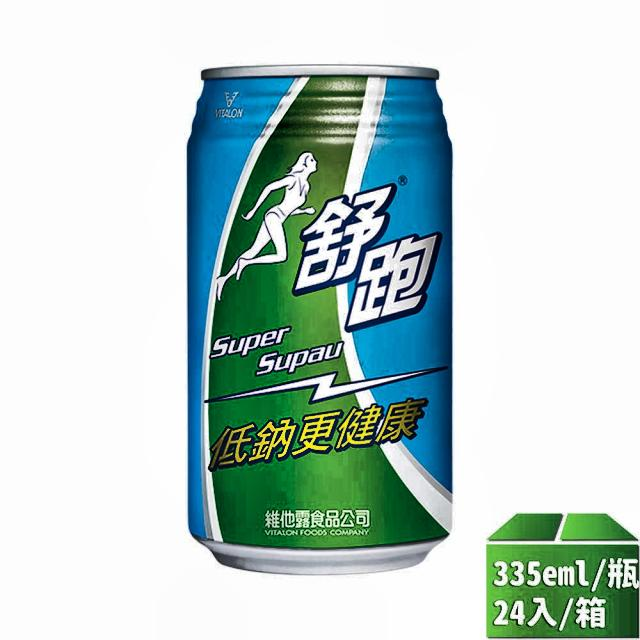can: (180, 54, 459, 581)
